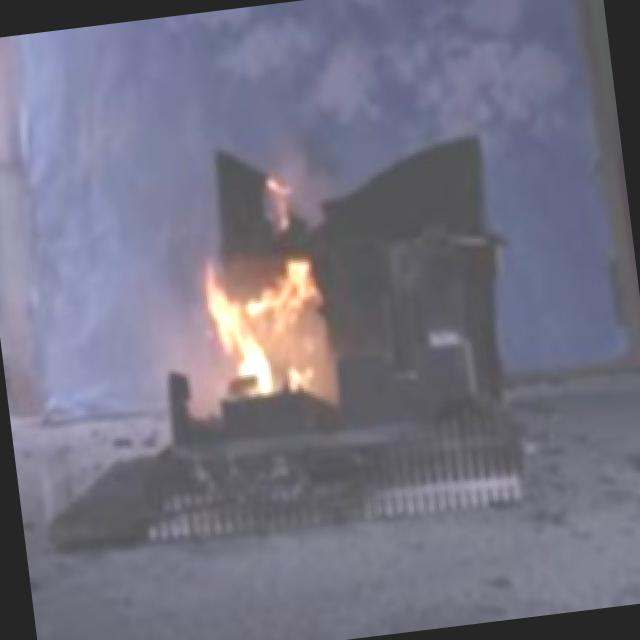fire: (197, 218, 360, 416)
